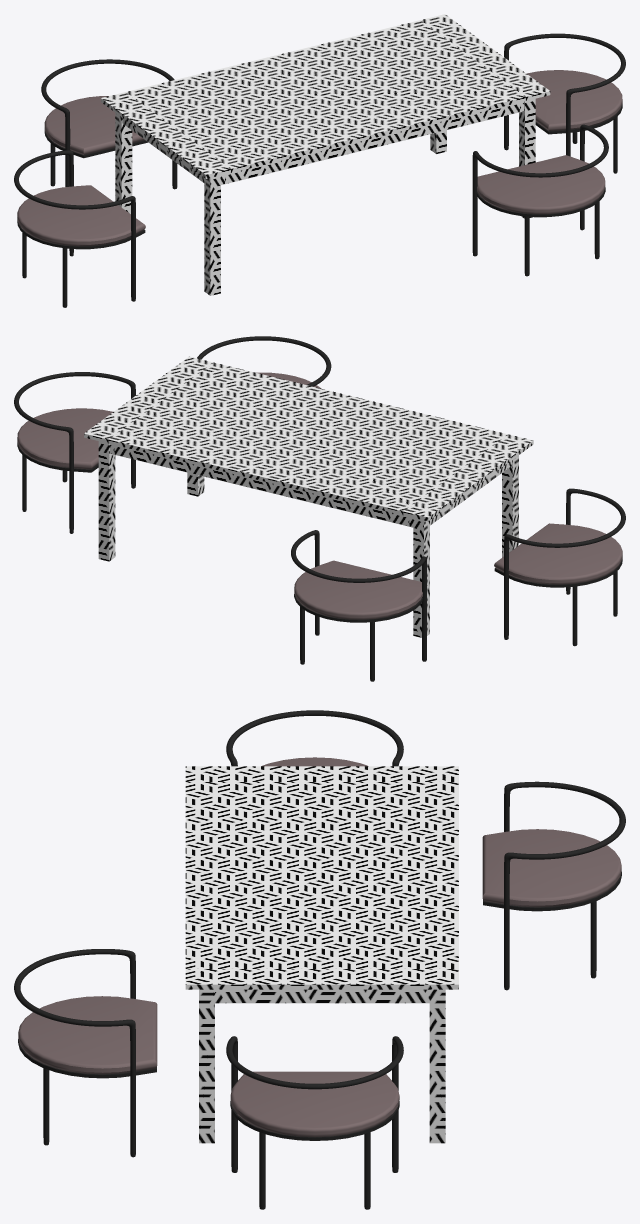
Rendered from uploads_files_5909765_ban+ghe+3.glb.
3 views of the same model, one above another, from view 1: azimuth 30°, elevation 25°; view 2: azimuth 150°, elevation 25°; view 3: azimuth 270°, elevation 25° (orthographic). The views are drawn at different scales.
Parts seen in each view (by area): view 1: 1.198, 1.014, 1.422, 1.013, 1.424, 1.011, 1.012; view 2: 1.198, 1.013, 1.422, 1.424, 1.011, 1.012, 1.014; view 3: 1.198, 1.013, 1.014, 1.424, 1.012, 1.011, 1.422.
Part boxes in pixels (x1,y1,x2,y2): 1.198: (101,14,550,295); 1.014: (472,124,608,276); 1.422: (17,185,145,246); 1.013: (41,59,177,189); 1.424: (526,70,622,130); 1.011: (14,150,145,307); 1.012: (504,33,625,173); 1.198: (84,356,533,637); 1.013: (291,530,427,681); 1.422: (494,523,622,584); 1.424: (17,408,112,469); 1.011: (494,488,625,646); 1.012: (14,372,135,533); 1.014: (197,336,331,388); 1.198: (185,766,458,1143); 1.013: (482,781,625,990); 1.014: (14,949,157,1157); 1.424: (230,1071,399,1137); 1.012: (226,1036,403,1209); 1.011: (226,710,403,766); 1.422: (261,757,368,766).
Bounding box in the file's own units: 2.01 × 0.4115 × 1.38.
Materials: 3 (2 with a texture image).
